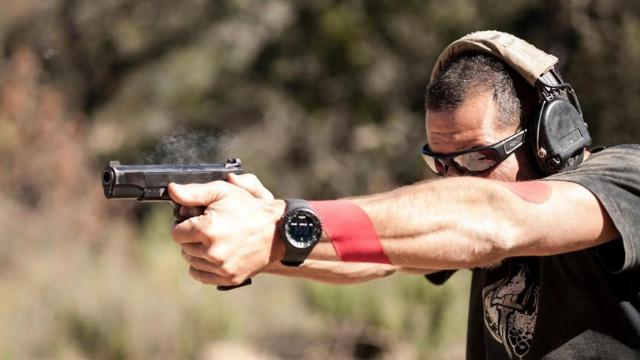handgun: (99, 154, 257, 294)
